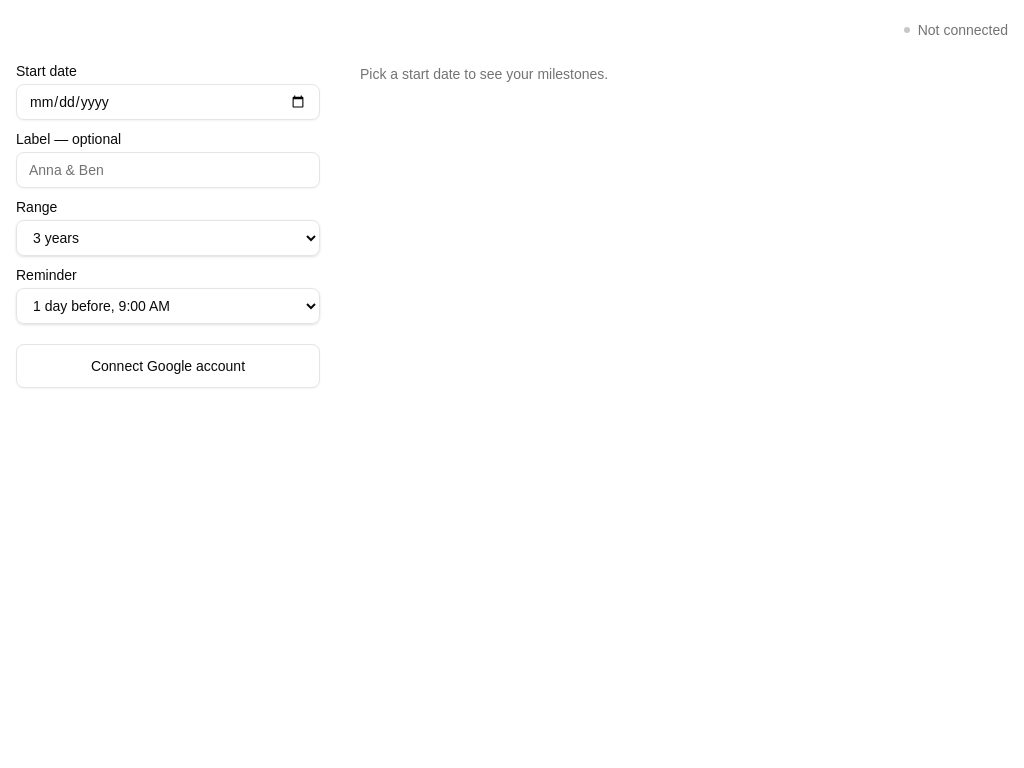
Test case: App — signing out › offers a sign-out once connected, and returns to the connect prompt
Expected: the button "Connect Google account" is enabled, [16,344,320,388]
Step 1. Type "2026-01-01" into the date field labelled "Start date" → (168, 102), box [16,84,320,120]
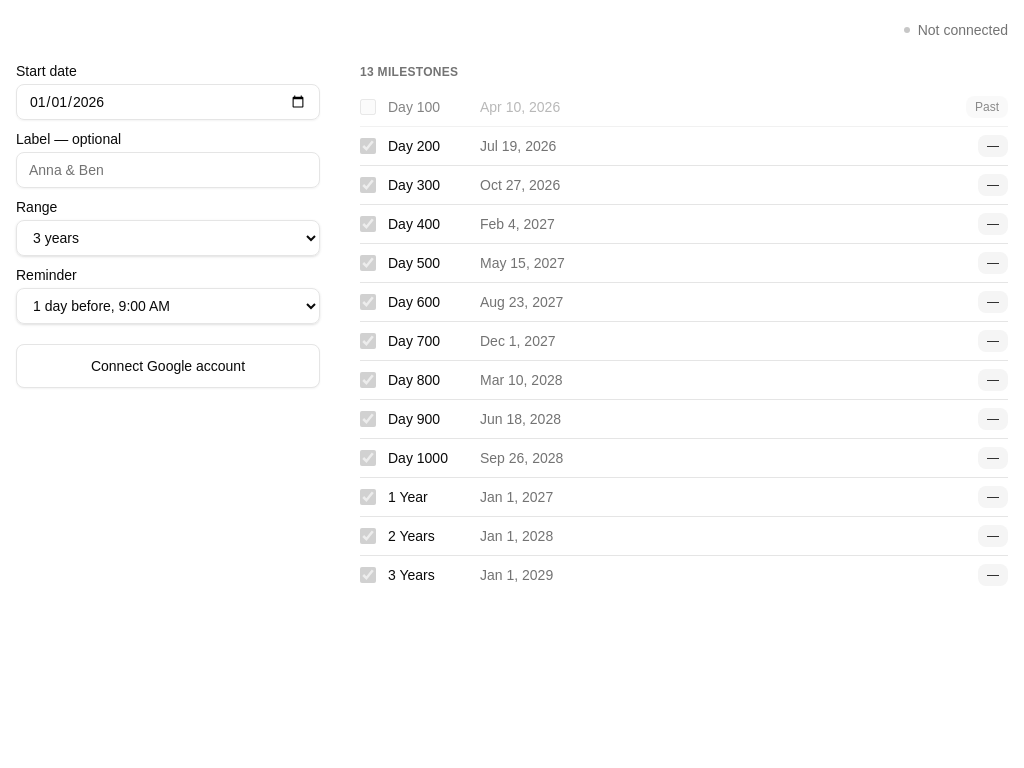
Step 2. Click the button "Connect Google account" → (168, 366), box [16,344,320,388]
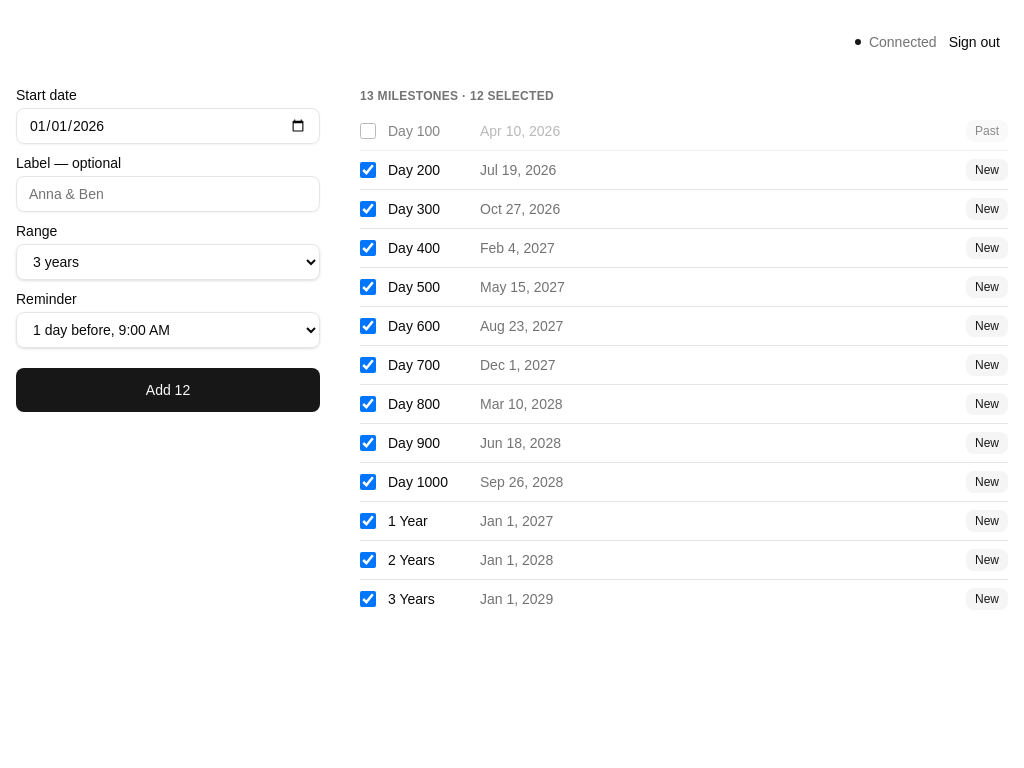
Expected: the text "Connected" is shown, [869,32,937,52]
Result: the button "Add 12" is shown at [16,368,320,412]
Step 3. Click the button "Sign out" → (974, 42), box [941,20,1008,64]
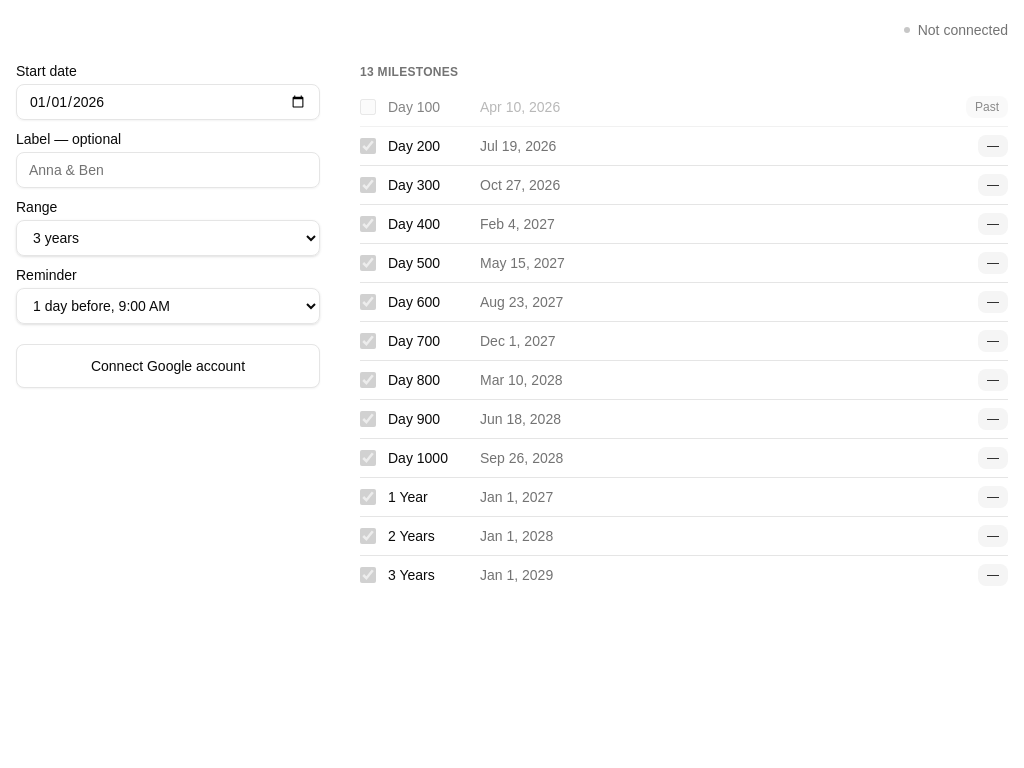
Result: the text "Not connected" is shown at [918,20,1008,40]
Result: the button "Connect Google account" is shown at [16,344,320,388]
Result: the button "Sign out" is gone
